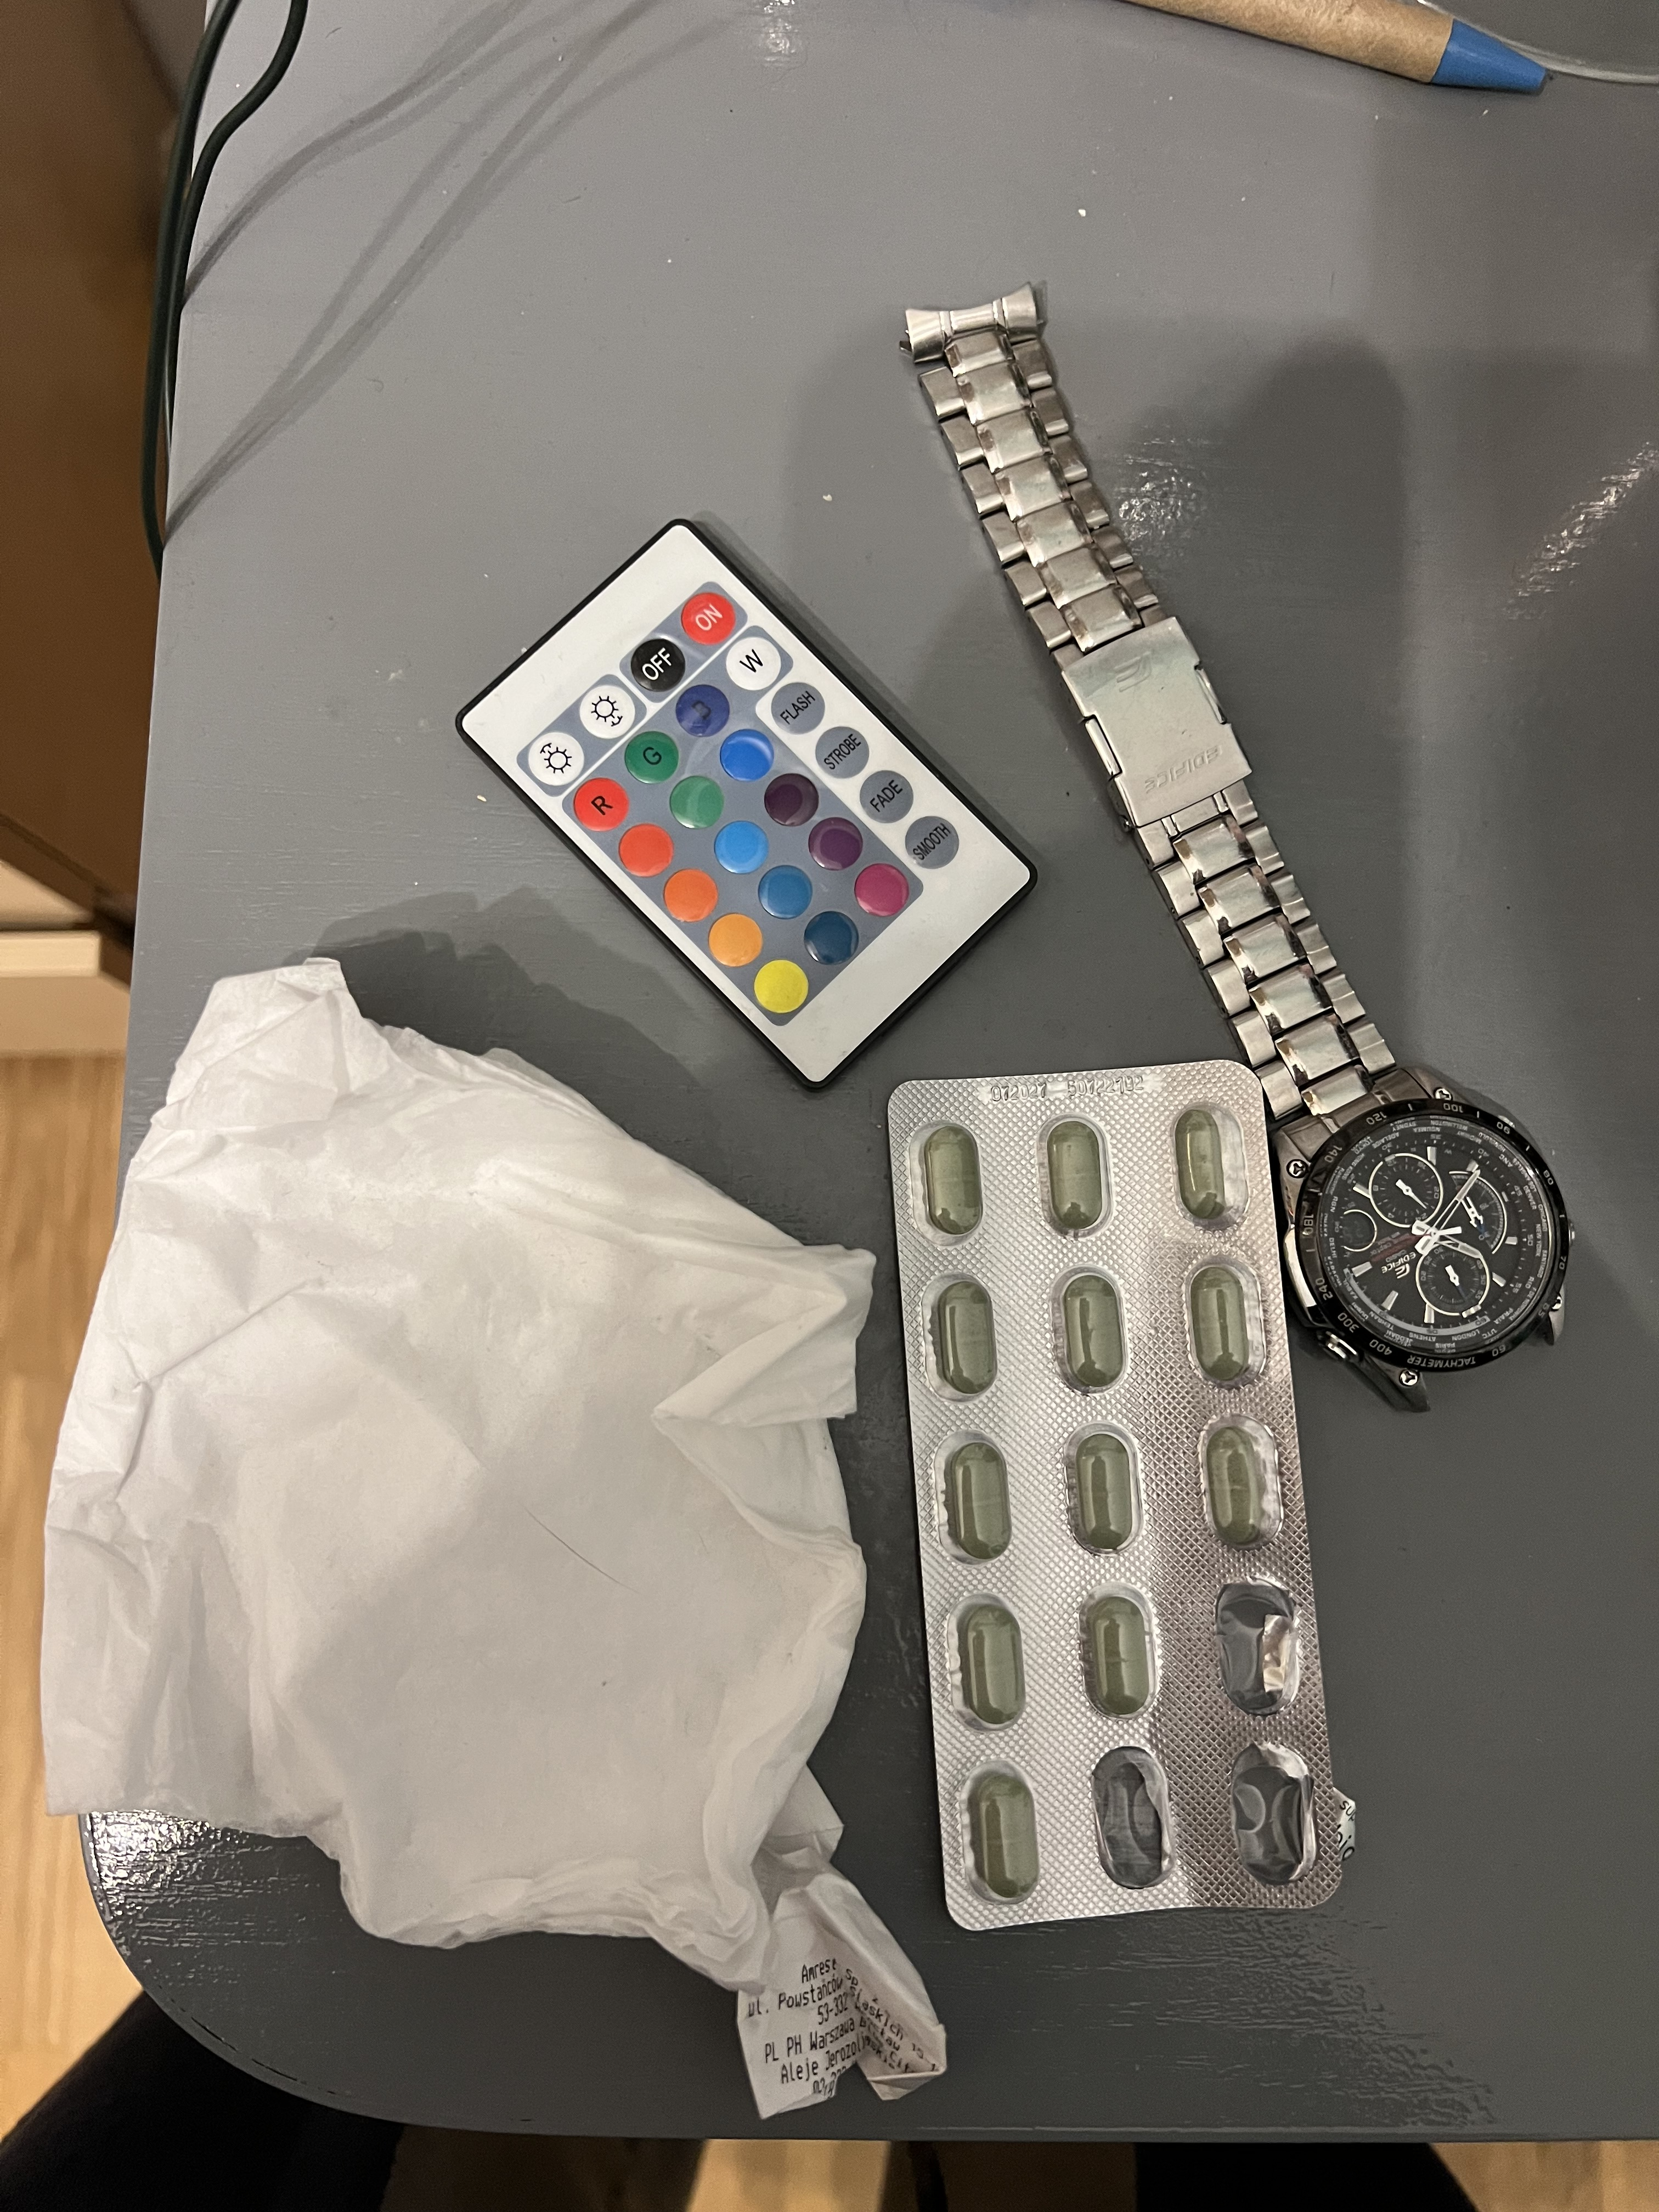METAL: (858, 326, 1184, 1550), (865, 1081, 1291, 1954)
PLASTIC: (37, 953, 951, 2116), (433, 738, 776, 1290)
